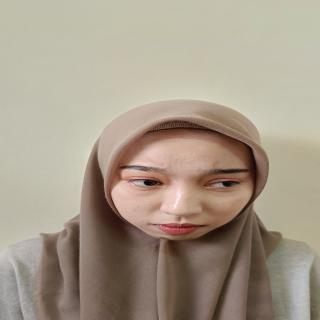Takut: (102, 121, 265, 247)
